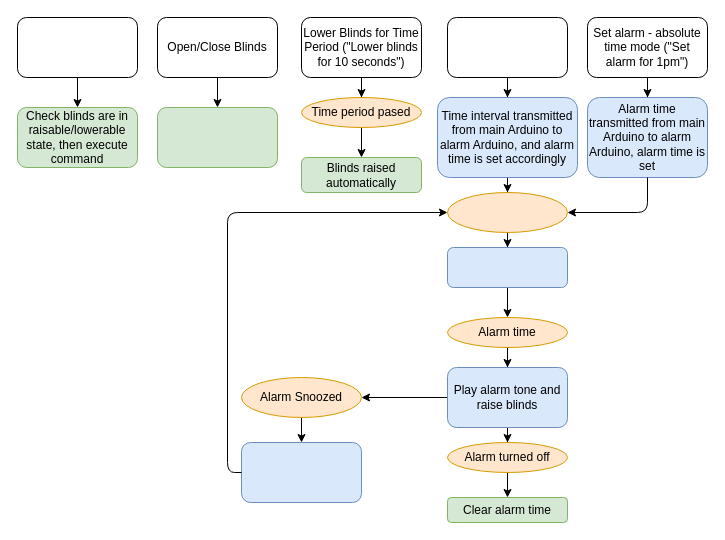
This 725x540 diagram has some shape labels left out. Here are the shapes that lost their labels. From the top down, the box of each, then its label:
(16, 16, 138, 78): Raise/Lower Blinds
(446, 16, 568, 78): Set alarm - time interval mode ("Set alarm for 1 minute")
(156, 106, 278, 168): Check blinds are in openable/closable state, then execute command
(446, 192, 568, 232): 1 minute before alarm time
(446, 246, 568, 288): Open blinds if blinds are closed
(240, 442, 362, 502): Update alarm time to 9 minutes later, lower and close blinds
